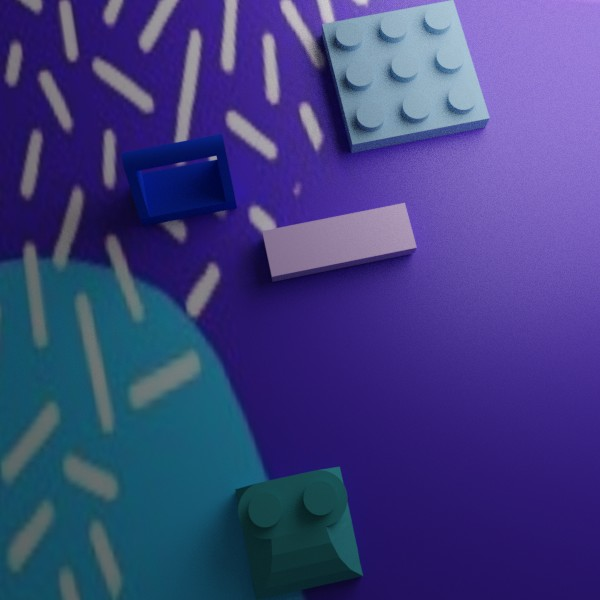lego: (321, 0, 489, 153), (235, 466, 363, 599), (262, 202, 416, 281), (121, 133, 237, 226)
